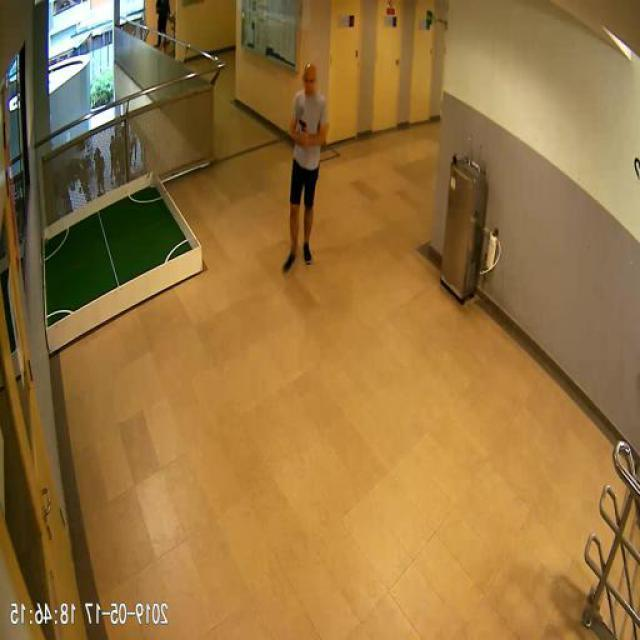Gun: (301, 115, 309, 140)
